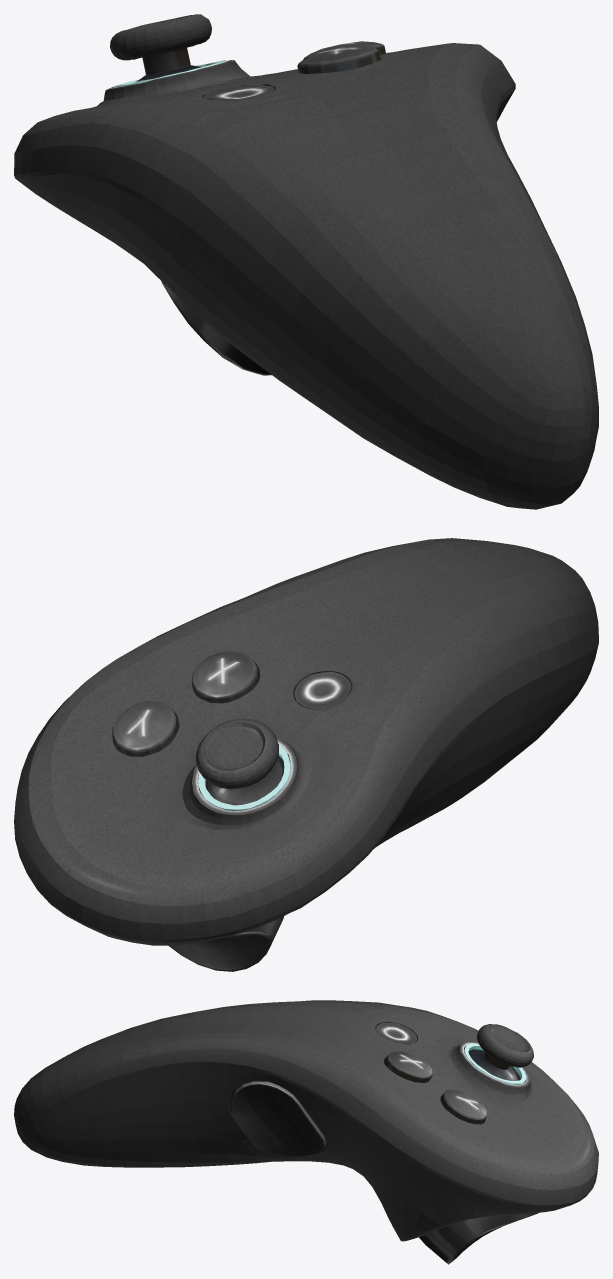
Rendered from pfd_mr_controller_left.obj.
3 renders of one model, top to bottom at view 1: azimuth 30°, elevation 25°; view 2: azimuth 150°, elevation 25°; view 3: azimuth 270°, elevation 25°, orthographic. The views are drawn at different scales.
Parts seen in each view (by area): view 1: pfd_mr_controller_left; view 2: pfd_mr_controller_left; view 3: pfd_mr_controller_left.
Boxes of the visible parts, x1=… form: pfd_mr_controller_left: x1=14, y1=14, x2=598, y2=509; pfd_mr_controller_left: x1=14, y1=538, x2=598, y2=971; pfd_mr_controller_left: x1=14, y1=1000, x2=598, y2=1264.
Bounding box in the file's own units: 0.0648 × 0.0524 × 0.1251.
1 material, 1 textured.
